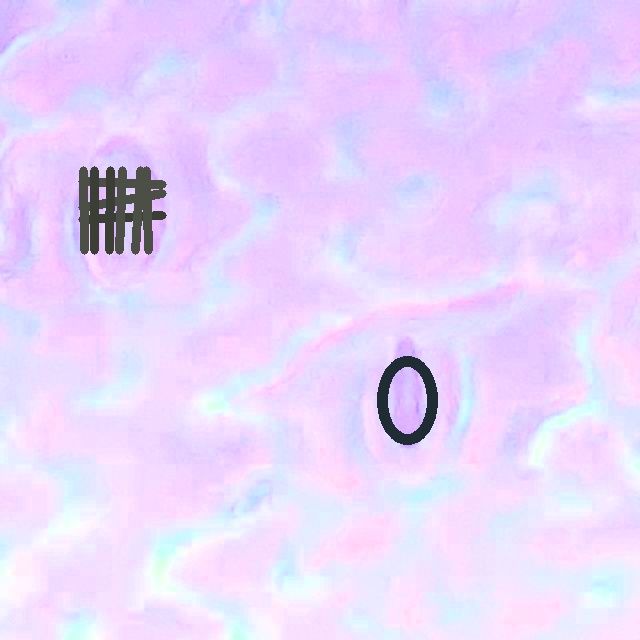open: (78, 167, 165, 254), (376, 356, 438, 445)
